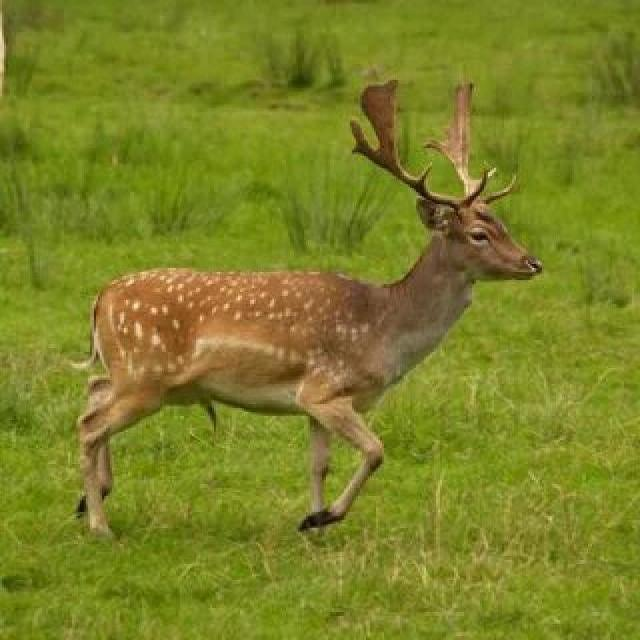deer: (20, 68, 638, 576)
